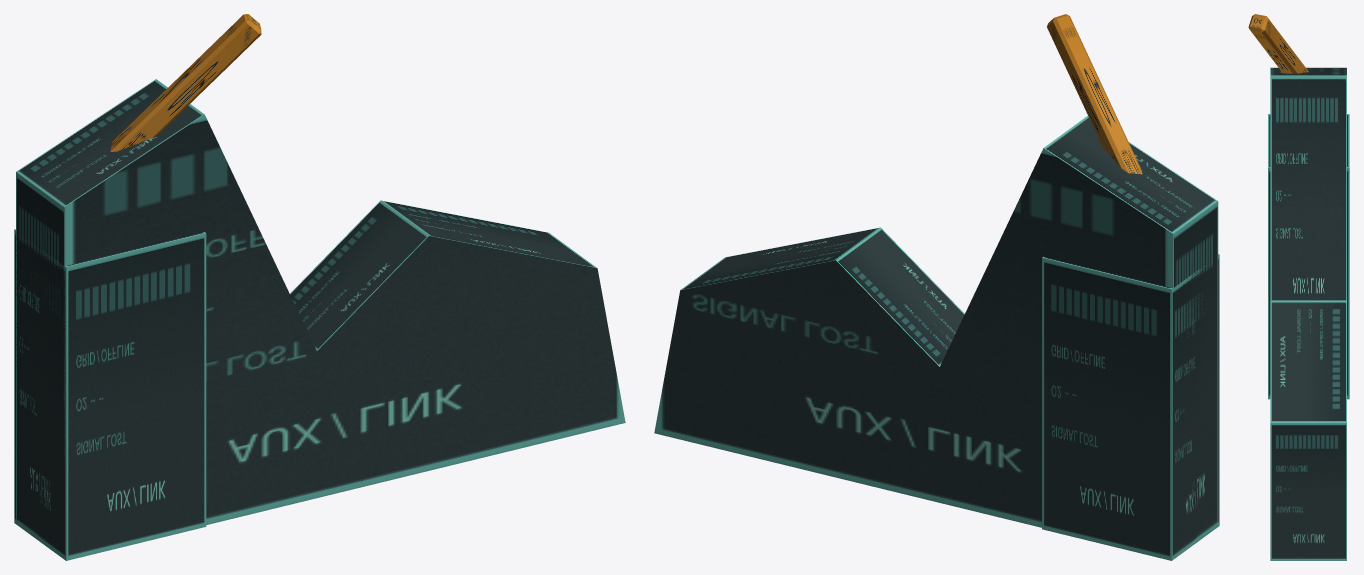
File: wall_fragment_LOD1.obj
The picture shows the model from 3 angles, left to right: view 1: azimuth 30°, elevation 25°; view 2: azimuth 150°, elevation 25°; view 3: azimuth 270°, elevation 25°; orthographic projection. The views are drawn at different scales.
Parts seen in each view (by area): view 1: L02_wall_fragment_LOD1; view 2: L02_wall_fragment_LOD1; view 3: L02_wall_fragment_LOD1.
Boxes of the visible parts, <box> form: L02_wall_fragment_LOD1: <box>14,14,625,560</box>; L02_wall_fragment_LOD1: <box>654,14,1219,560</box>; L02_wall_fragment_LOD1: <box>1248,14,1349,560</box>.
Size of the model in its own units: 2 by 1.72 by 0.3961.
Materials: 1 (1 with a texture image).
